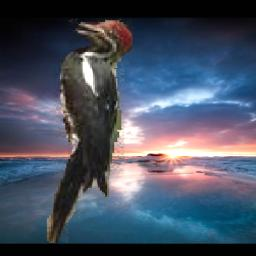Woodpecker: (47, 19, 133, 243)
